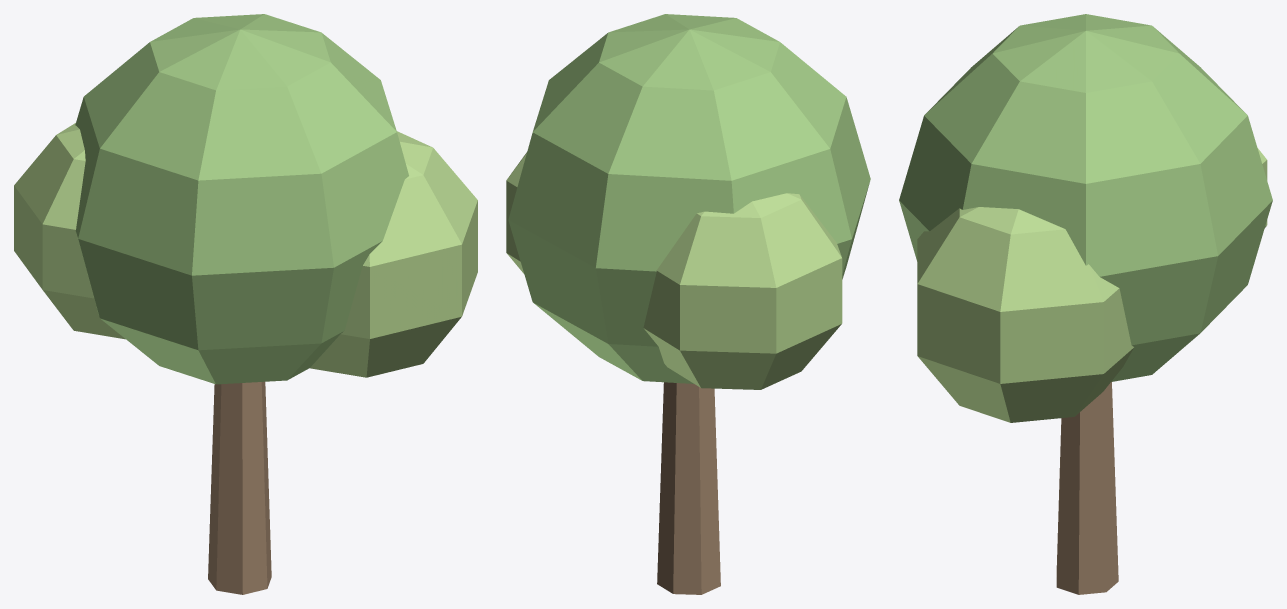
Rendered from sb_tree_round.glb.
3 renders of one model, left to right at view 1: azimuth 30°, elevation 25°; view 2: azimuth 150°, elevation 25°; view 3: azimuth 270°, elevation 25°, orthographic.
Parts seen in each view (by area): view 1: sb_tree_round; view 2: sb_tree_round; view 3: sb_tree_round.
Part boxes in pixels (<box>): sb_tree_round: <box>14,14,477,594</box>; sb_tree_round: <box>506,14,870,594</box>; sb_tree_round: <box>899,14,1272,594</box>.
Bounding box in the file's own units: 3.65 × 5.2 × 3.2.
